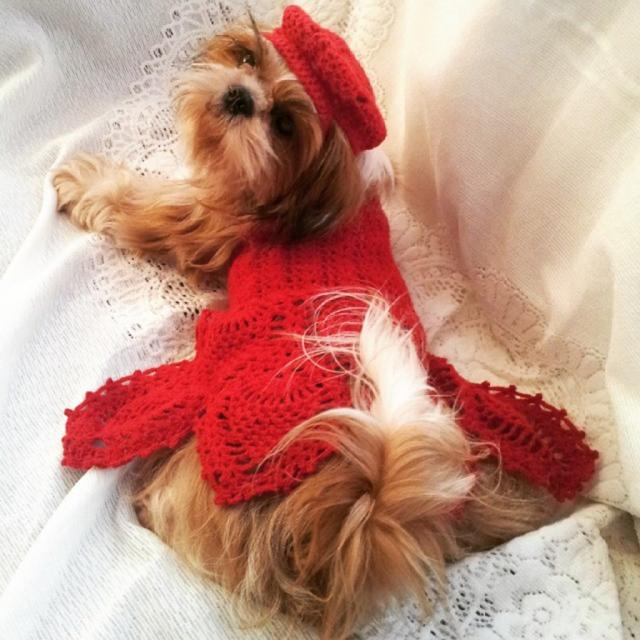Dog: (45, 0, 602, 638)
